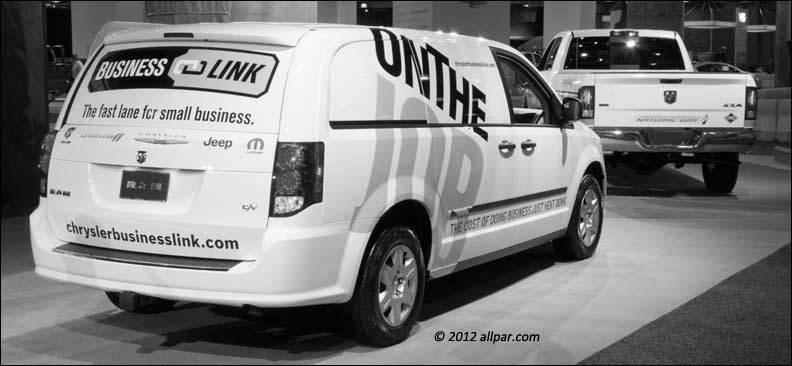car: (33, 24, 607, 349)
